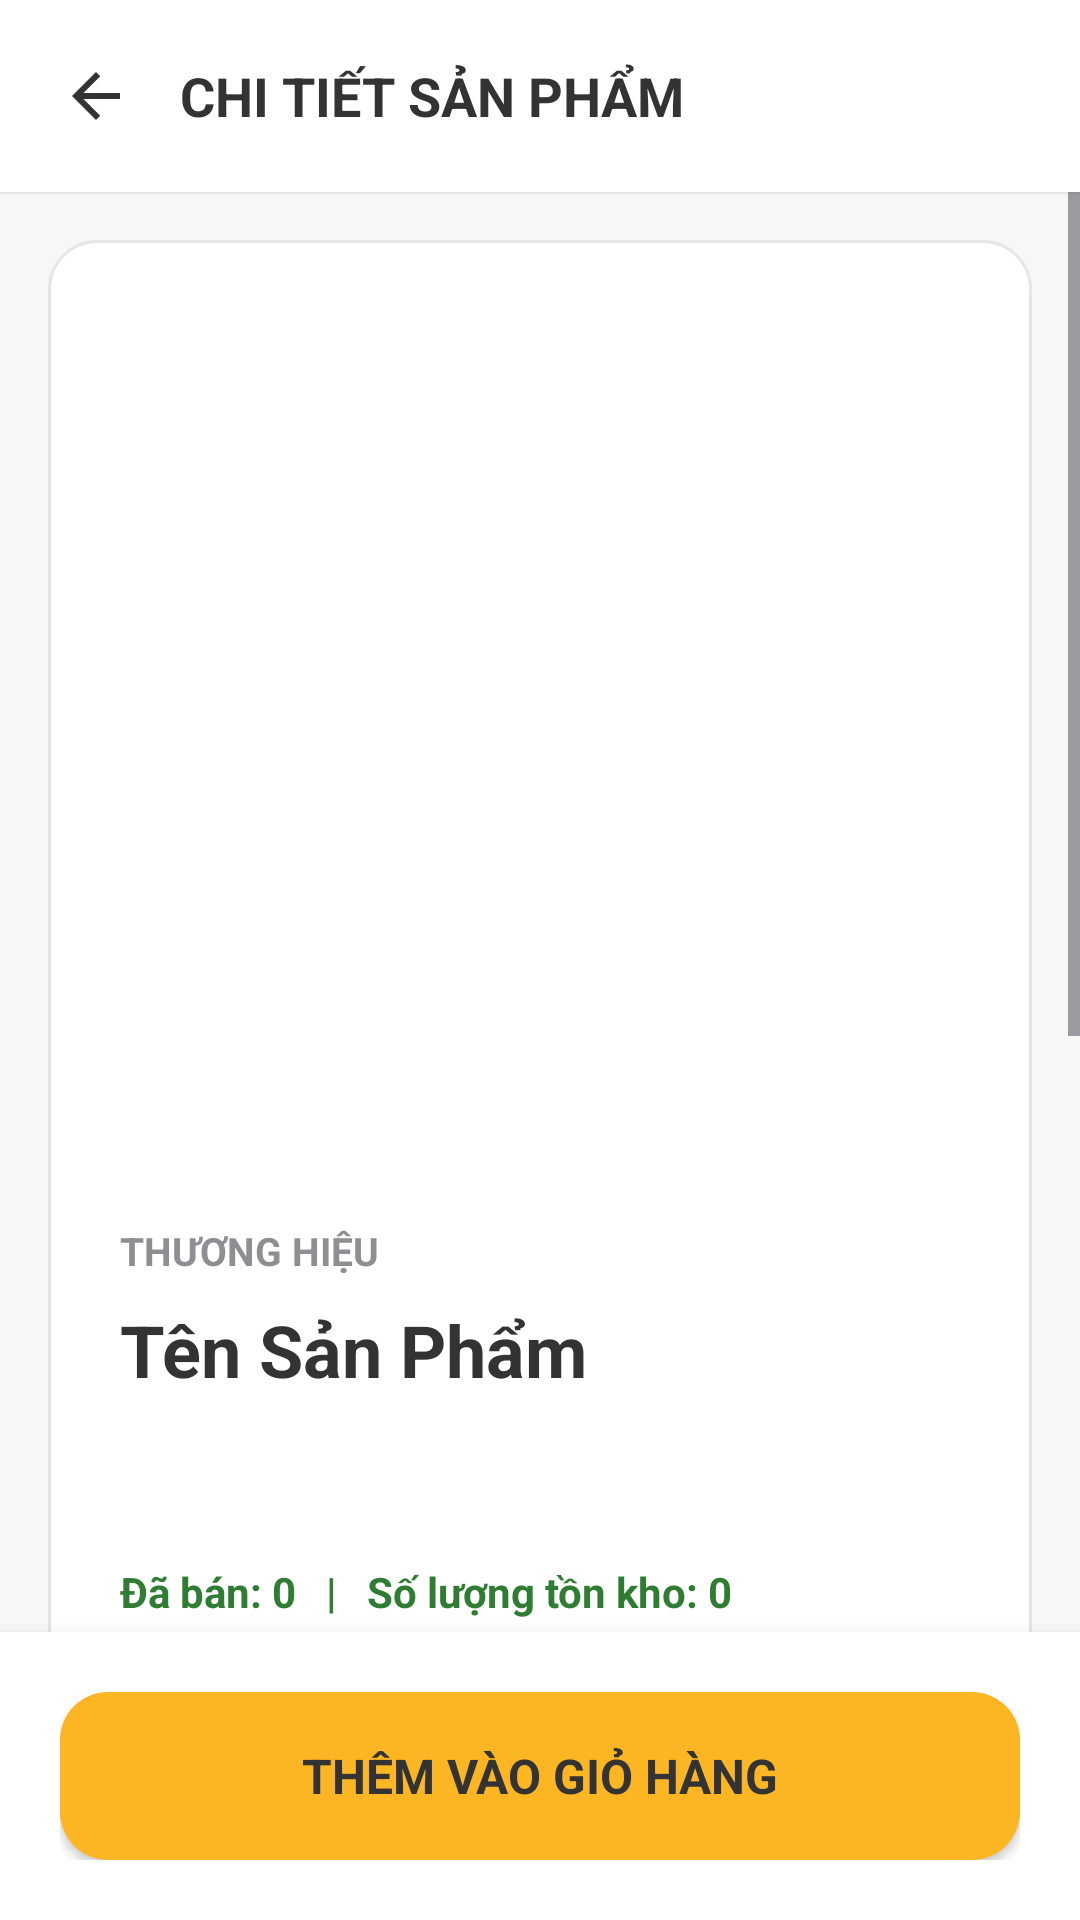

Locate icon controls on the screen. Image size 1080px×1920px, boxes as rect(x1, y1, x2, y2).
Quay lại: rect(72, 72, 120, 120)
